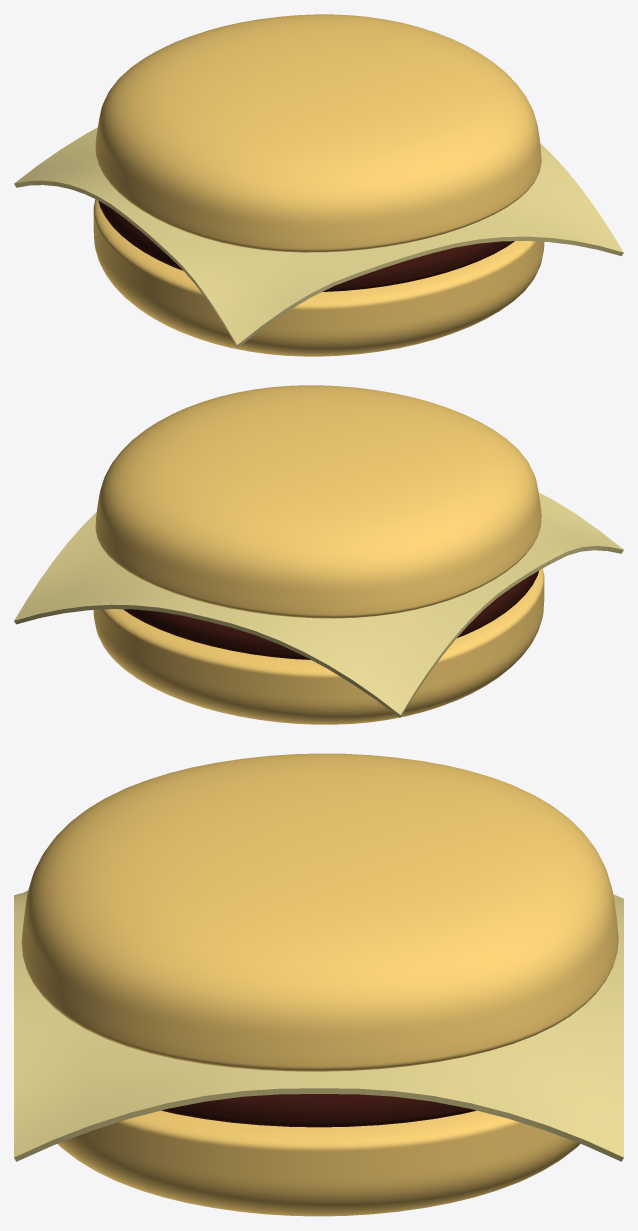
The model's file is hamburger.glb.
3 renders of one model, top to bottom at view 1: azimuth 30°, elevation 25°; view 2: azimuth 150°, elevation 25°; view 3: azimuth 270°, elevation 25°, orthographic. The views are drawn at different scales.
Parts seen in each view (by area): view 1: Cube.002, Plane, Cube, Cube.001; view 2: Cube.002, Plane, Cube, Cube.001; view 3: Cube.002, Plane, Cube, Cube.001.
Part boxes in pixels (bbox=[...]): Cube.002: bbox=[95, 14, 541, 252]; Plane: bbox=[14, 127, 623, 347]; Cube: bbox=[93, 199, 544, 356]; Cube.001: bbox=[98, 201, 514, 291]; Cube.002: bbox=[95, 385, 541, 618]; Plane: bbox=[14, 493, 623, 717]; Cube: bbox=[93, 568, 544, 724]; Cube.001: bbox=[123, 571, 538, 659]; Cube.002: bbox=[21, 753, 618, 1071]; Plane: bbox=[14, 890, 623, 1161]; Cube: bbox=[57, 1110, 580, 1216]; Cube.001: bbox=[161, 1094, 476, 1127].
Bounding box in the file's own units: 7.34 × 4.04 × 7.34.
